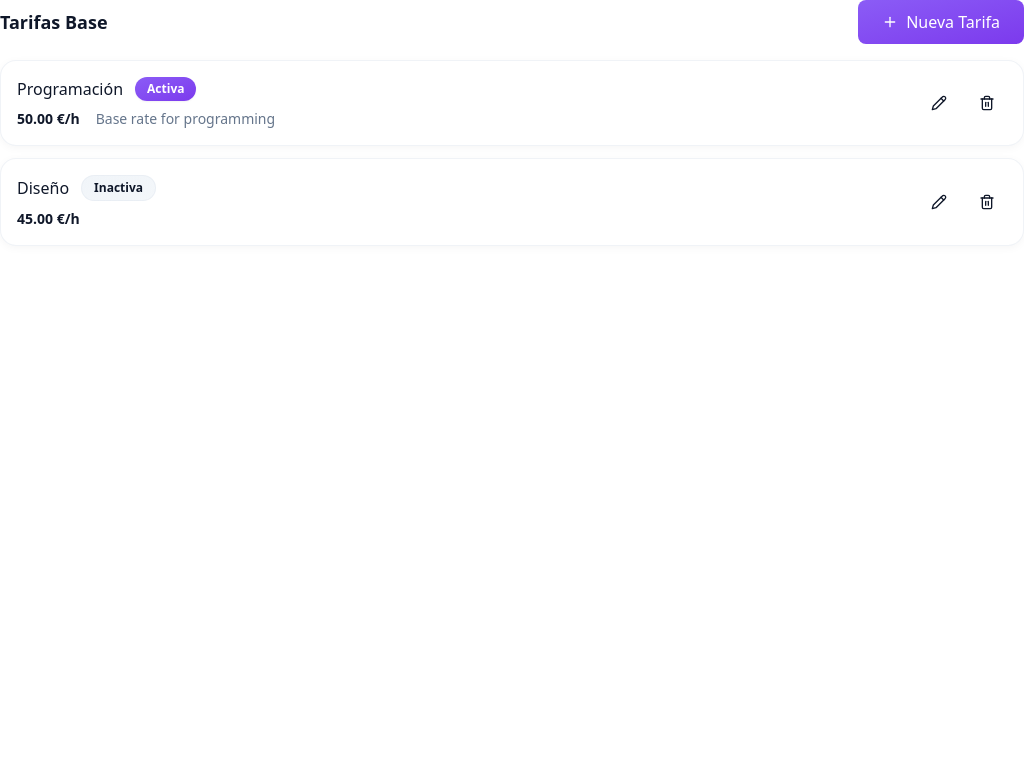
Test: RatesTable › opens edit form when edit button is clicked
Click the 2nd button at [939, 103], box [919, 87, 959, 119]
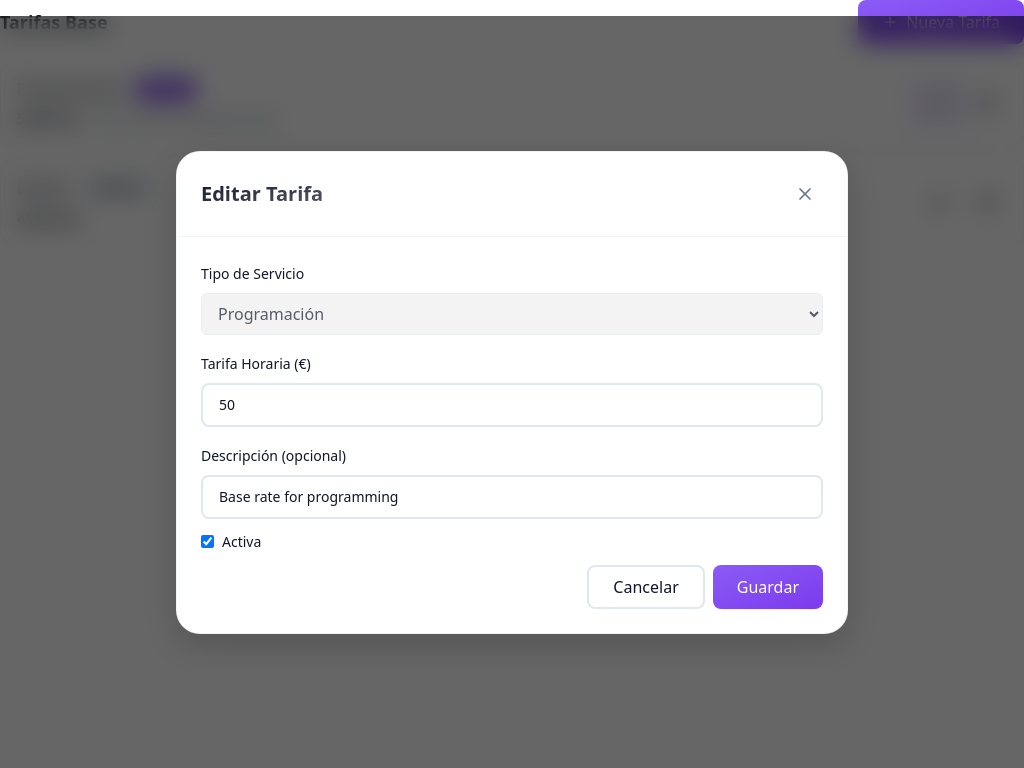
Check: the heading "Editar Tarifa" is shown, box [201, 180, 323, 208]
